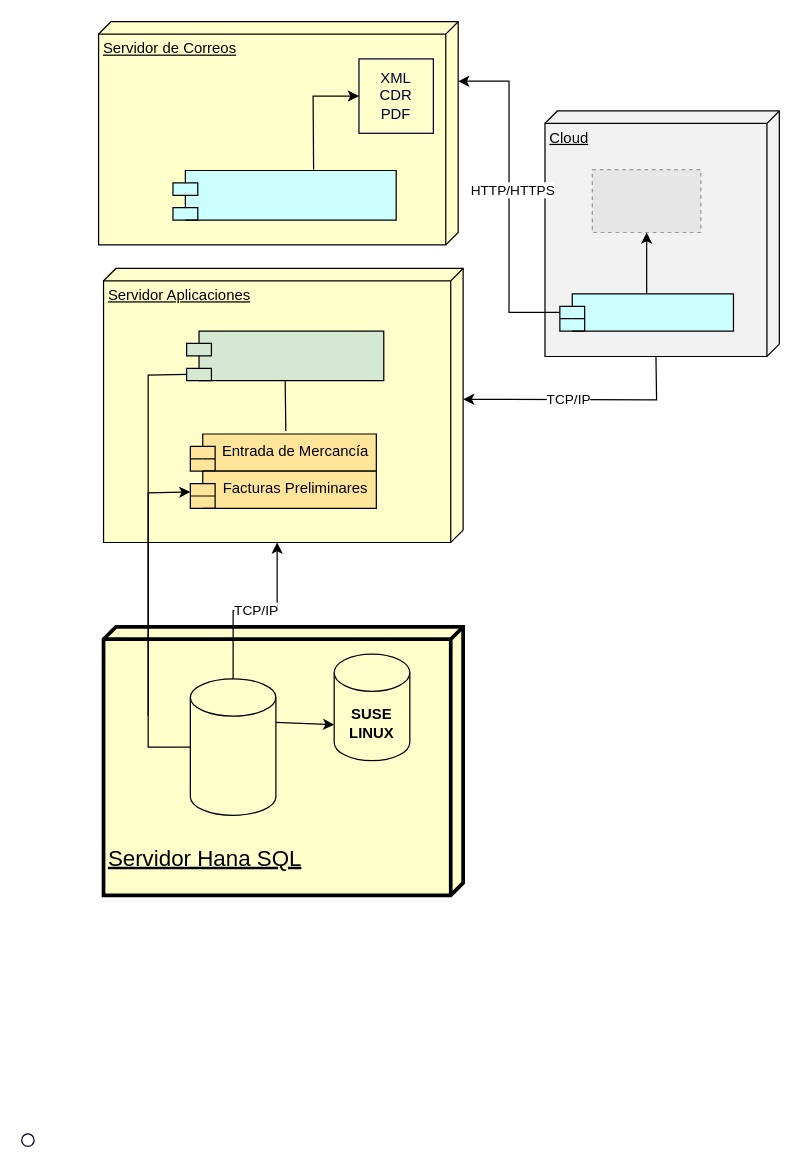
Image size: 801x1168. Some labels were removed from this diagram. Grey dashed boxes stand in for pictures. The centre of each missing label's shape, as x and y in pixels:
Correo@integradon.com.pe: the point at 284,194
Rockebot: the point at 646,312
Sap Business One: the point at 284,355
SAP HANA: the point at 232,746
